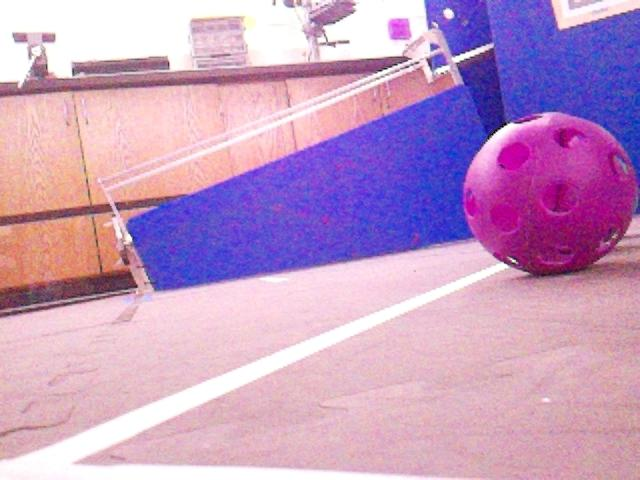Purple: (463, 110, 637, 274)
